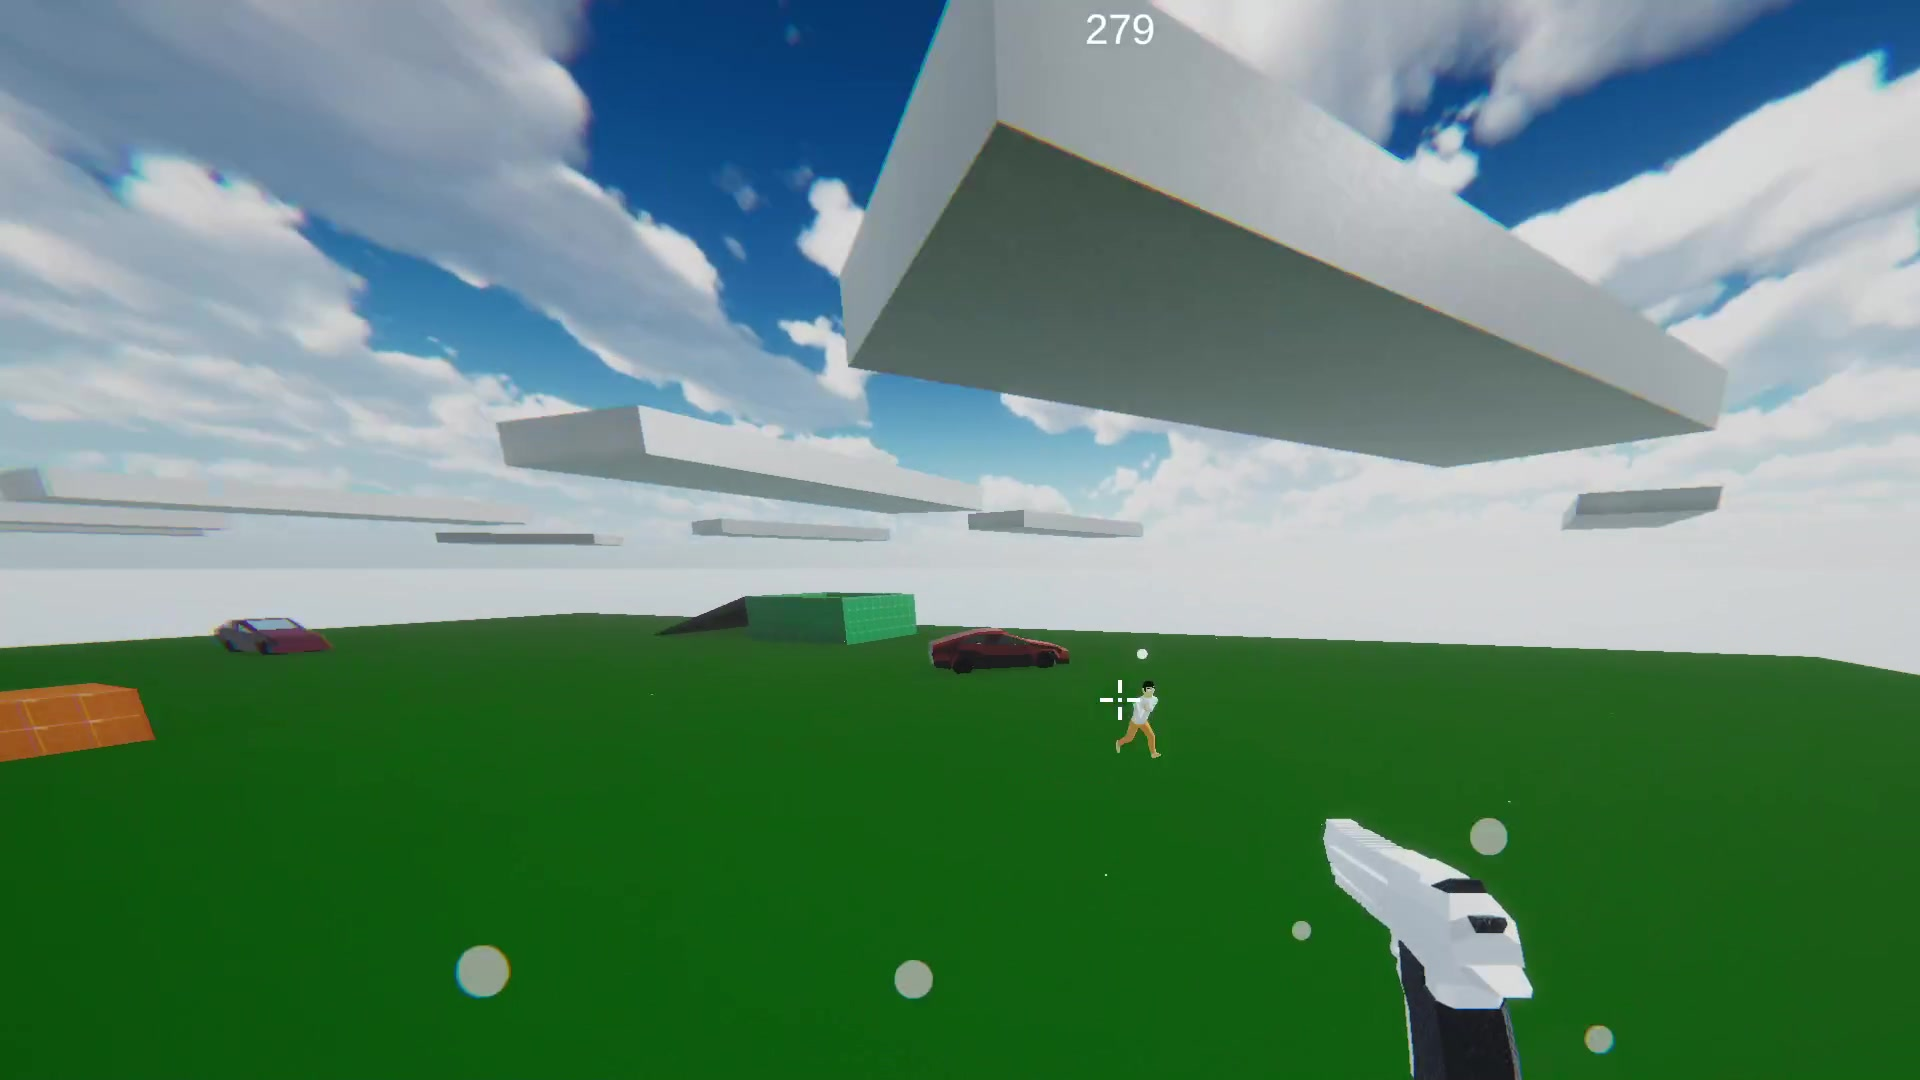human: (1127, 688, 1157, 754)
